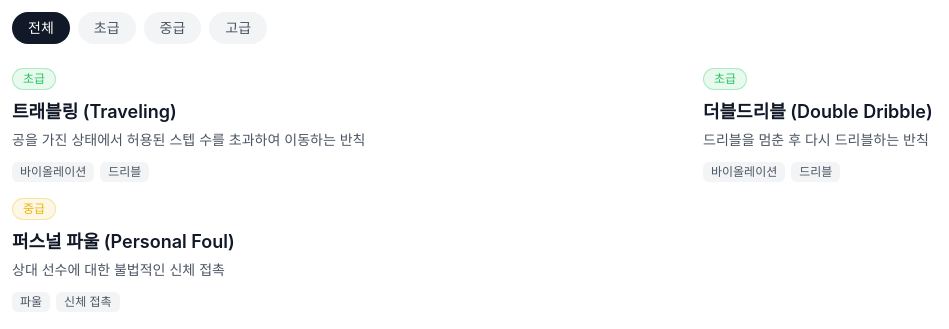
Test: RuleListWithFilter › 매칭 결과가 없으면 안내 메시지를 표시한다
Click the button "고급": (238, 28) [209,12,267,44]
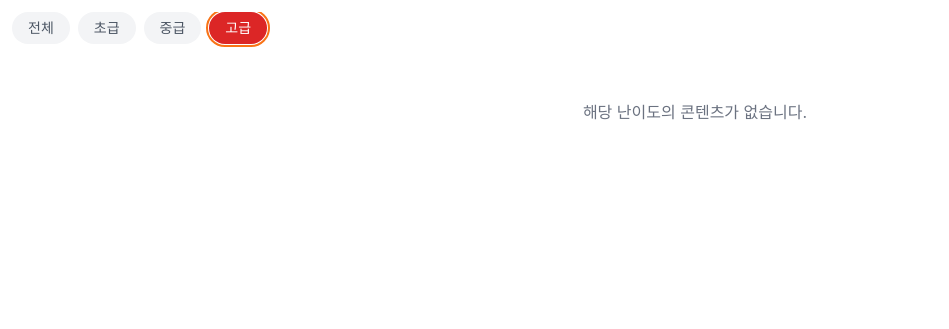
Check: the text "해당 난이도의 콘텐츠가 없습니다." is shown, box [583,102,807,122]
